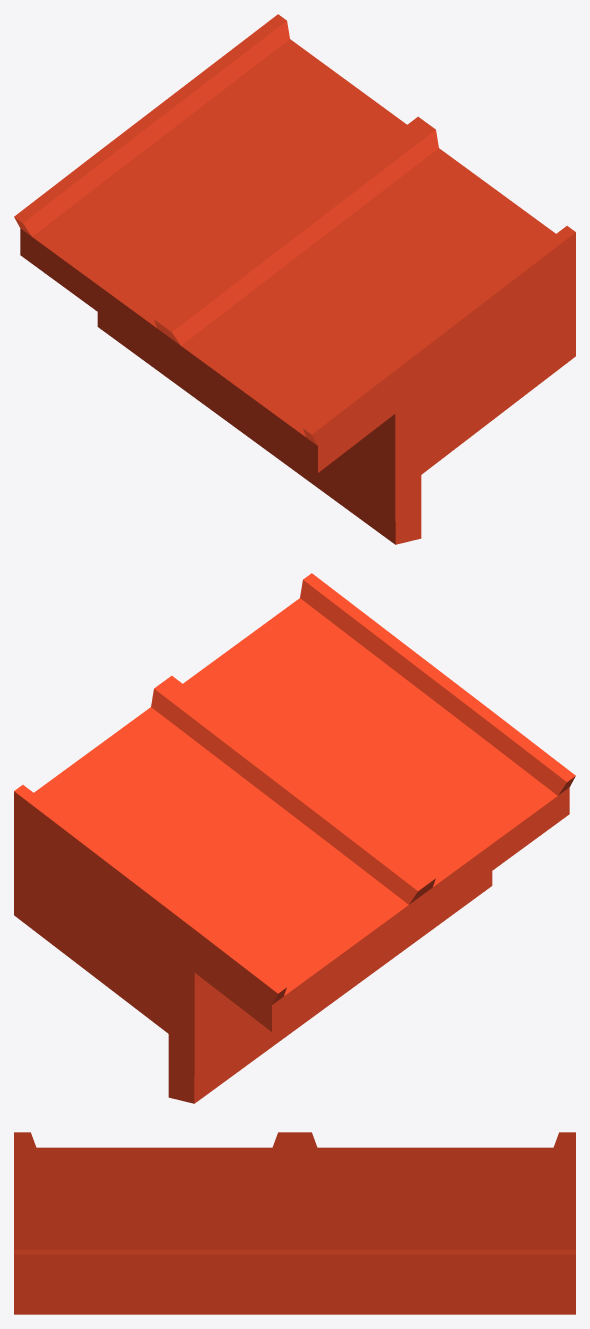
Rendered from roof-metal-moderate-1m-edge.fbx.
The picture shows the model from 3 angles, top to bottom: view 1: azimuth 30°, elevation 25°; view 2: azimuth 150°, elevation 25°; view 3: azimuth 270°, elevation 25°; orthographic projection. The views are drawn at different scales.
Parts seen in each view (by area): view 1: roof-metal-moderate-1m-edge; view 2: roof-metal-moderate-1m-edge; view 3: roof-metal-moderate-1m-edge.
Part boxes in pixels (bbox=[...]): roof-metal-moderate-1m-edge: bbox=[14, 14, 575, 544]; roof-metal-moderate-1m-edge: bbox=[14, 573, 575, 1103]; roof-metal-moderate-1m-edge: bbox=[14, 1132, 575, 1314].
Bounding box in the file's own units: 0.512 × 0.4978 × 1.
